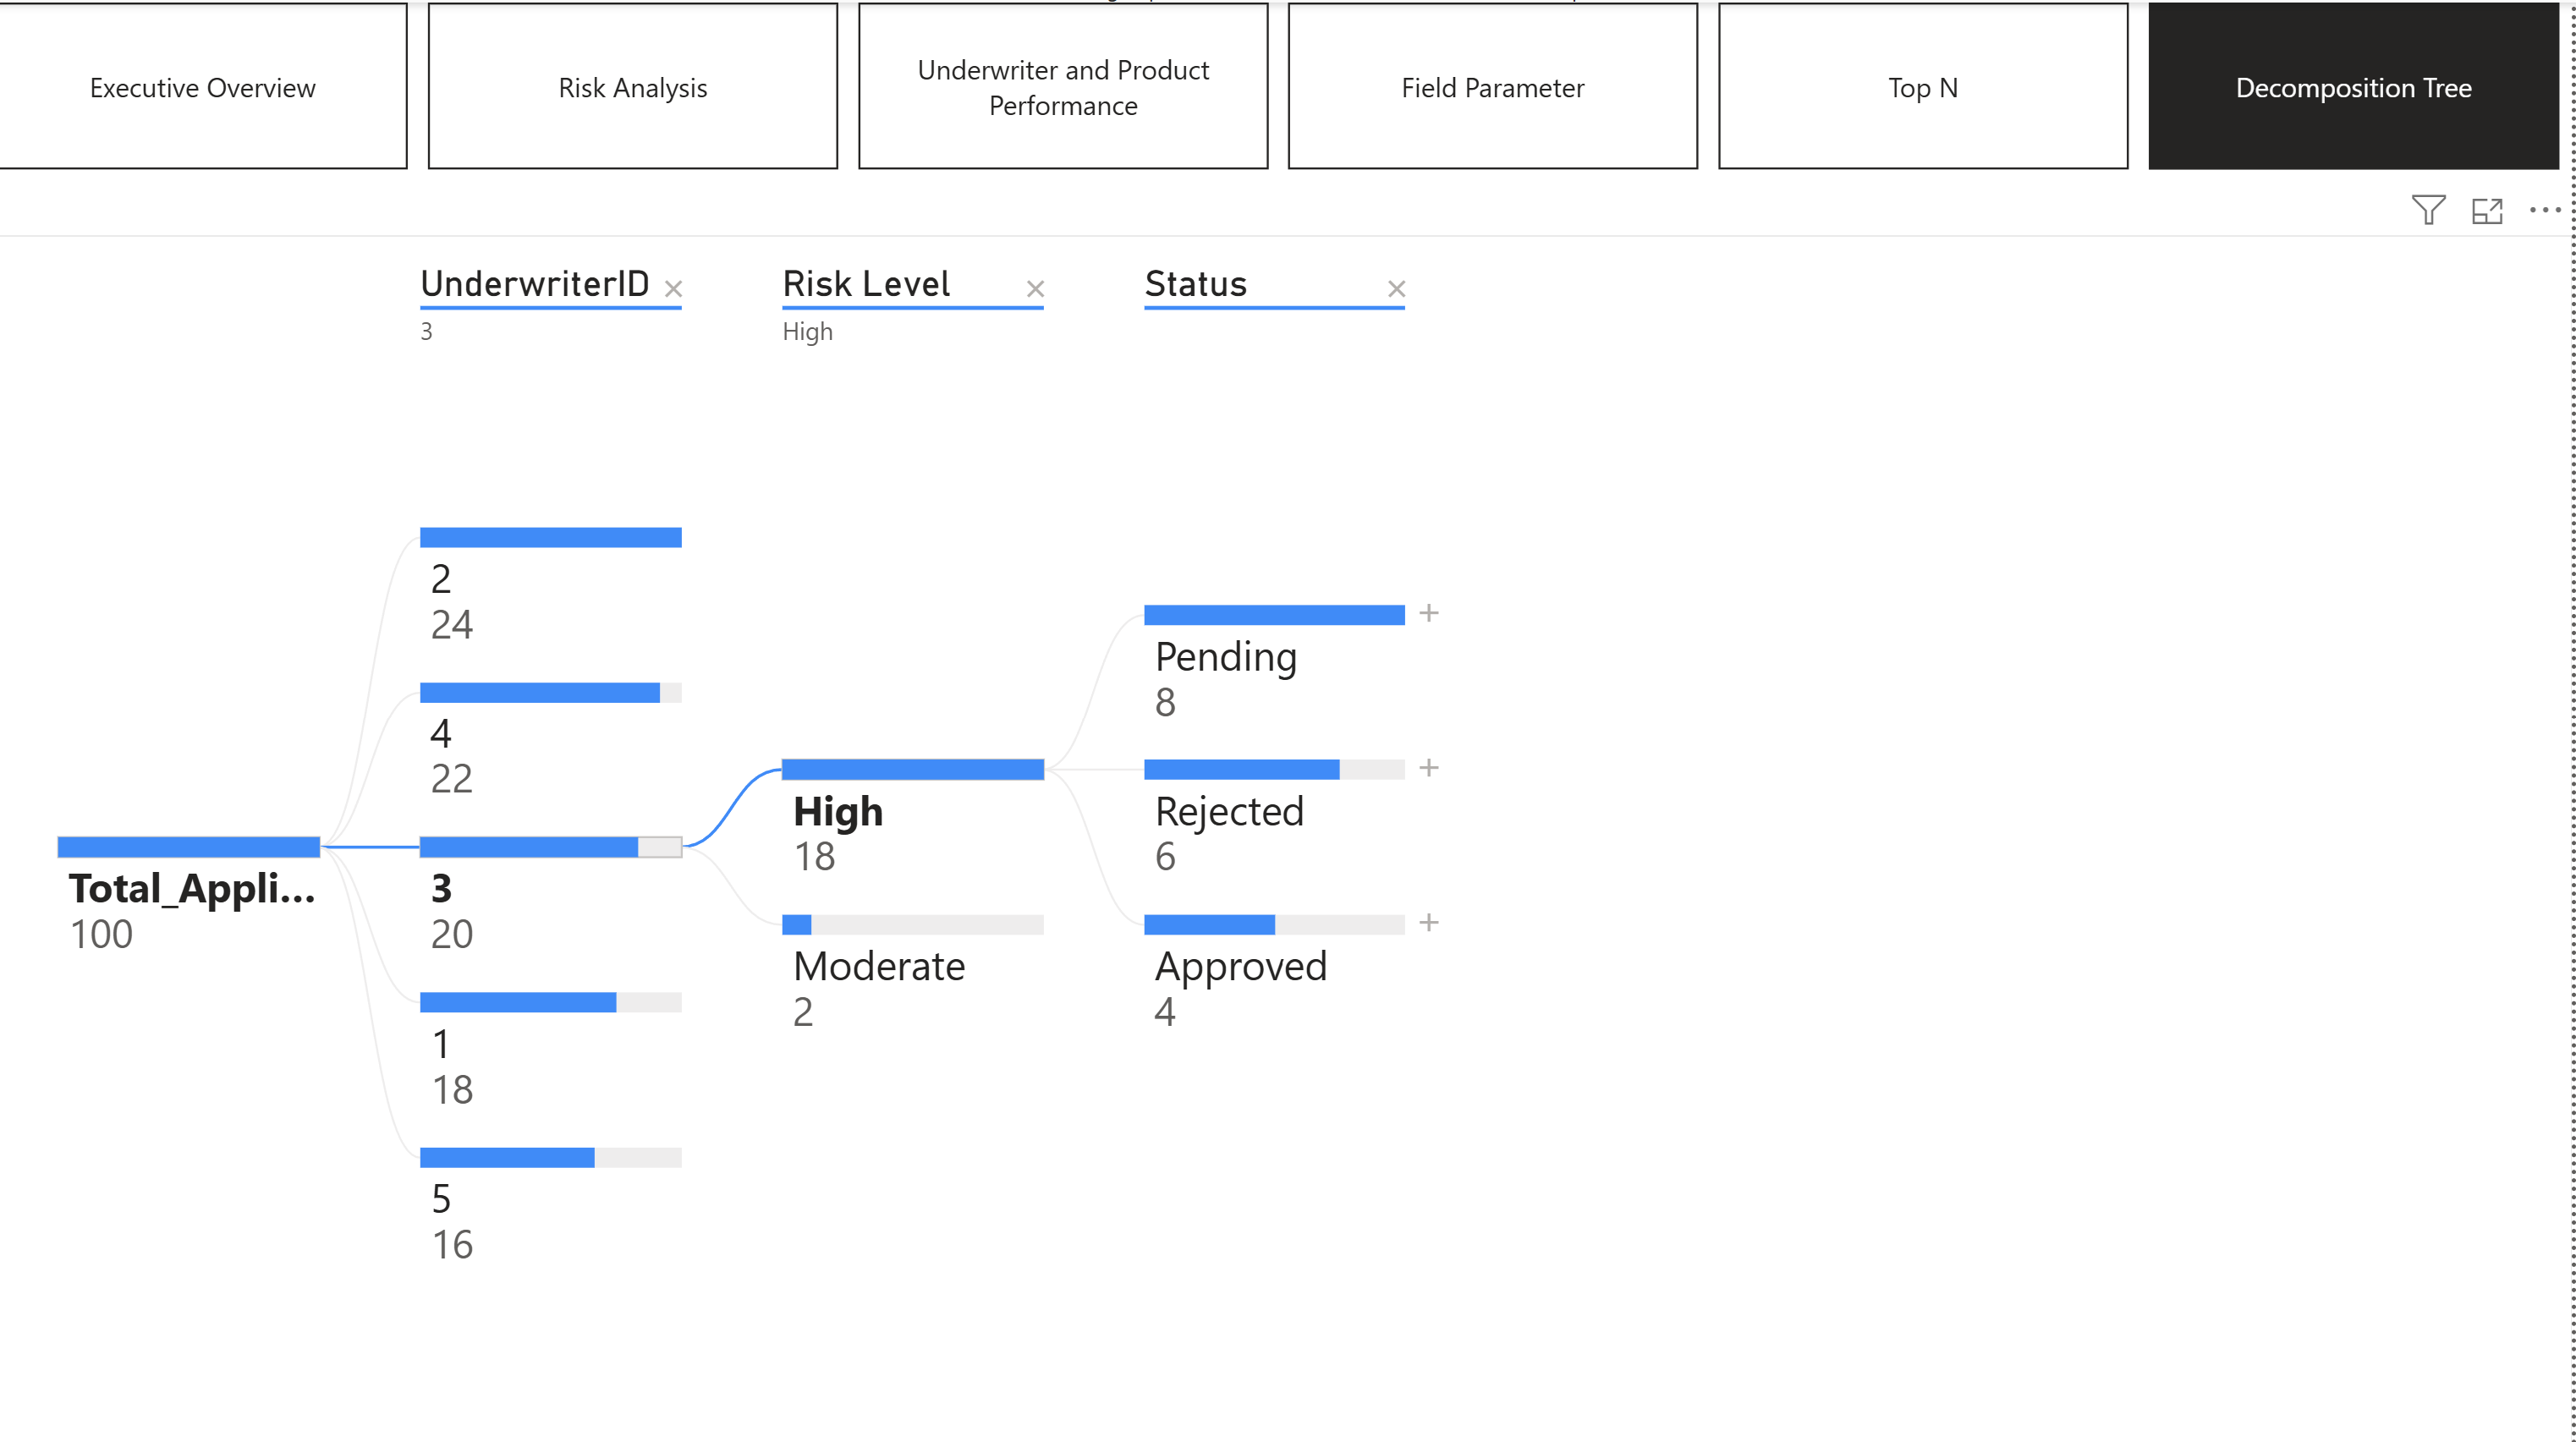

What the dashboard file says about the page in this screenshot:
{"tool":"powerbi","page":{"name":"Decomposition Tree","canvas":[1280,720],"ordinal":5},"visuals":[{"type":"decompositionTreeVisual","fields":{"Analyze":["Measure_Table.Total_Applications"],"ExplainBy":["FactApplications.UnderwriterID","FactApplications.Risk Level","FactApplications.Status","DimApplicants.Credit Band","DimProducts.ProductName"]},"box":[0,115.7,1280.6,604.6],"z":0},{"type":"pageNavigator","box":[0,0,1279.6,83.1],"z":1}]}

Visuals, with their boxes in screenshot pixels (x1, y1, x2, y2), scaled from the page's 1280x720 canvas onto the 2576x1442 screenshot:
decompositionTreeVisual - Measure_Table.Total_Applications x FactApplications.UnderwriterID: detection(0, 232, 2575, 1441)
pageNavigator: detection(0, 0, 2575, 167)
